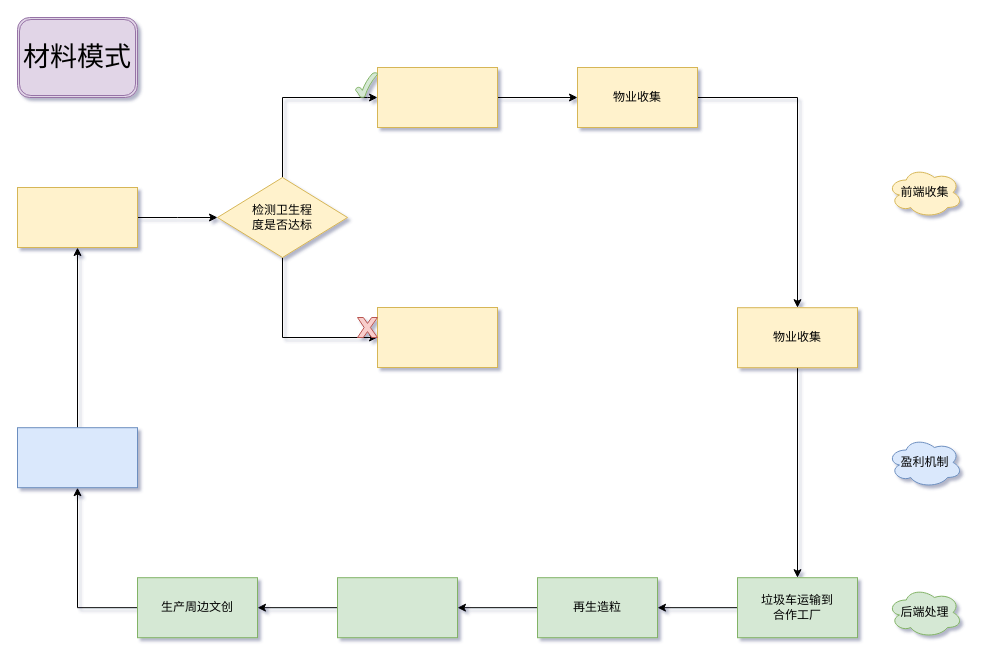
This 986x662 diagram has some shape labels left out. The centre of each missing label's shape, as x and y in pixels:
不合格，不予回收: (x=437, y=337)
合格，自动落入垃圾桶内，顾客积分: (x=437, y=97)
热裂解回收: (x=397, y=607)
送回园区内的实体店，消费人群为园区员工以及观光游客: (x=77, y=457)
顾客扫描垃圾桶身上的二维码，摄像头开启: (x=77, y=217)
